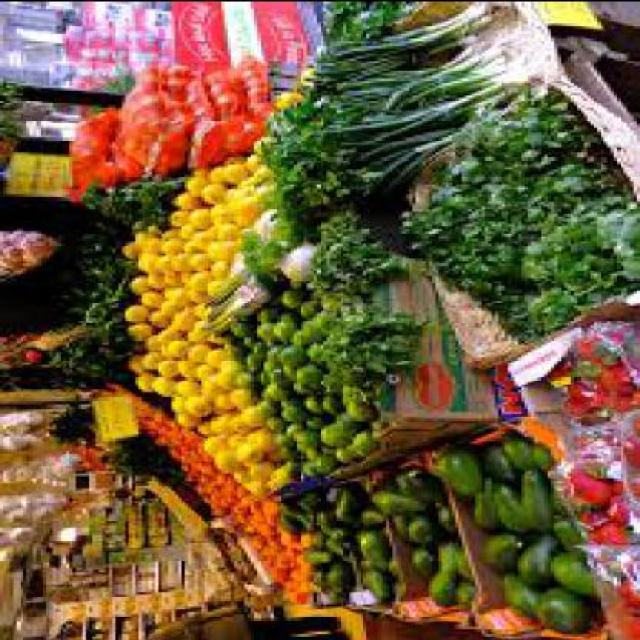BIODEGRADABLE: (310, 2, 512, 82), (320, 39, 514, 116), (343, 102, 519, 185), (439, 93, 584, 185), (333, 81, 512, 148), (514, 202, 637, 292), (396, 178, 524, 255), (317, 302, 415, 398), (265, 165, 366, 247), (307, 210, 396, 299), (267, 161, 347, 247), (254, 100, 323, 178), (432, 245, 514, 309), (531, 165, 620, 222), (57, 230, 115, 316), (317, 2, 421, 46), (498, 289, 580, 342), (82, 183, 172, 228), (85, 260, 128, 346), (205, 279, 263, 336), (43, 338, 109, 388), (0, 229, 57, 285), (429, 445, 482, 500), (532, 588, 593, 635), (201, 254, 254, 304), (270, 534, 307, 603), (43, 400, 89, 452), (192, 465, 238, 517), (512, 535, 554, 591), (561, 467, 613, 511), (109, 437, 165, 477), (548, 553, 594, 601), (231, 230, 274, 276), (136, 417, 182, 460), (518, 472, 548, 536), (478, 534, 522, 574), (268, 246, 317, 280), (370, 487, 422, 519), (498, 575, 534, 620), (478, 447, 518, 487), (352, 529, 386, 573), (434, 540, 466, 586), (488, 486, 518, 534), (244, 212, 281, 250), (178, 432, 204, 482), (574, 334, 614, 366), (1, 509, 62, 529), (257, 502, 277, 563), (422, 568, 452, 608), (600, 384, 637, 416), (389, 465, 426, 497), (498, 440, 534, 472), (0, 410, 46, 435), (332, 487, 363, 524), (0, 497, 66, 514), (540, 355, 574, 388), (277, 499, 311, 532), (241, 501, 261, 554), (587, 526, 633, 549), (408, 548, 439, 581), (359, 571, 390, 603), (597, 363, 631, 391), (560, 393, 598, 418), (466, 492, 492, 528), (574, 507, 611, 531), (0, 458, 34, 484), (406, 522, 442, 546), (313, 425, 350, 447), (160, 289, 192, 314), (560, 374, 598, 395), (323, 564, 346, 598), (617, 434, 637, 472), (297, 67, 320, 99), (551, 516, 571, 552), (270, 344, 304, 365), (614, 582, 637, 613), (235, 197, 258, 228), (193, 183, 224, 205), (237, 430, 268, 452), (350, 432, 376, 457), (166, 309, 192, 334), (601, 499, 624, 527), (211, 365, 234, 393), (0, 436, 40, 452), (230, 447, 262, 467), (118, 324, 150, 344), (118, 304, 150, 324), (174, 272, 200, 296), (267, 324, 298, 344), (286, 366, 317, 386), (270, 92, 301, 112), (528, 447, 550, 475), (0, 531, 34, 549), (200, 350, 232, 368), (323, 539, 349, 561), (241, 460, 267, 482), (212, 452, 238, 474), (264, 467, 287, 491), (182, 175, 204, 200), (224, 391, 250, 412), (353, 509, 379, 529), (251, 306, 277, 326), (307, 454, 333, 474), (185, 232, 208, 254), (257, 346, 277, 371), (208, 395, 228, 420), (270, 292, 301, 308), (329, 418, 360, 434), (182, 398, 204, 420), (313, 526, 350, 539), (168, 361, 192, 381), (122, 277, 146, 297), (244, 138, 270, 156), (168, 380, 194, 398), (290, 531, 321, 546), (136, 354, 158, 375), (251, 400, 274, 420), (185, 343, 208, 363), (214, 165, 240, 182), (198, 440, 224, 457), (156, 240, 182, 257), (294, 299, 314, 321), (228, 371, 250, 391), (162, 341, 184, 361), (228, 492, 240, 528), (221, 342, 241, 363), (172, 191, 192, 212), (330, 448, 356, 464), (343, 406, 369, 422), (261, 386, 287, 402), (304, 548, 327, 566), (284, 590, 307, 608), (336, 390, 359, 408), (128, 376, 152, 393), (313, 506, 333, 526), (290, 576, 310, 596), (241, 156, 261, 176), (241, 410, 261, 430), (148, 378, 168, 398), (194, 363, 214, 383), (146, 308, 166, 328), (136, 254, 156, 274), (294, 497, 317, 514), (274, 410, 297, 427), (284, 430, 307, 447), (120, 245, 146, 260), (182, 257, 204, 274), (225, 418, 248, 434), (308, 571, 323, 595), (244, 482, 264, 500), (122, 358, 142, 376), (154, 360, 174, 378), (300, 346, 320, 363), (264, 366, 284, 383), (136, 336, 156, 353), (162, 326, 182, 343), (188, 210, 208, 227), (128, 232, 154, 245), (390, 519, 405, 541), (172, 415, 194, 430), (208, 225, 230, 240), (456, 586, 472, 606), (320, 396, 340, 412), (198, 378, 214, 398), (162, 259, 182, 275), (138, 294, 158, 309), (168, 400, 184, 418), (149, 274, 165, 292), (228, 326, 250, 339), (281, 277, 304, 289), (215, 205, 227, 227), (224, 155, 244, 168), (211, 242, 231, 255), (241, 355, 257, 371), (301, 460, 316, 477), (624, 479, 636, 499), (301, 398, 316, 414), (261, 420, 281, 432), (162, 274, 178, 289), (254, 368, 264, 388), (271, 435, 283, 450), (281, 450, 296, 462), (201, 171, 214, 183), (288, 386, 303, 396), (158, 230, 171, 239), (275, 314, 290, 321), (242, 339, 250, 348), (360, 564, 366, 573)
CARDBOARD: (370, 274, 521, 468), (224, 2, 301, 76), (168, 2, 224, 72)
